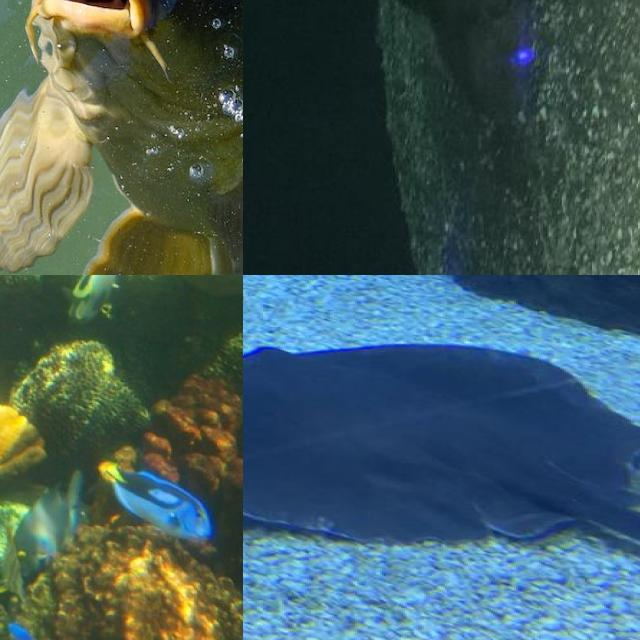fish: (243, 331, 640, 640), (0, 0, 243, 275)
